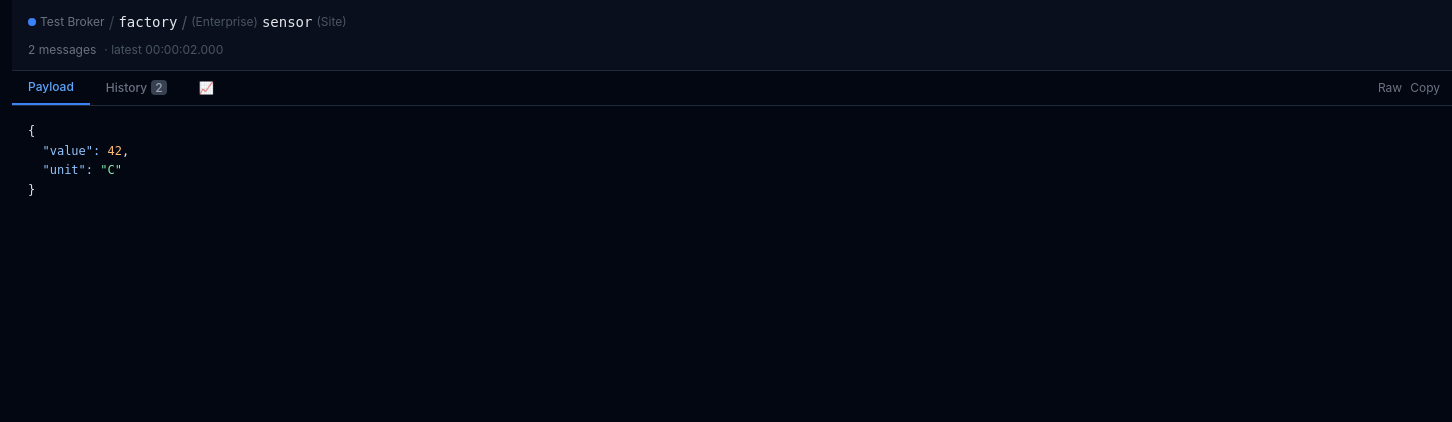
Test: PayloadInspector — topic selected › switches to sparkline tab
The width and height of the screenshot is (1452, 422).
Click the button "📈".
click(206, 88)  # box x1=183 y1=71 x2=230 y2=105
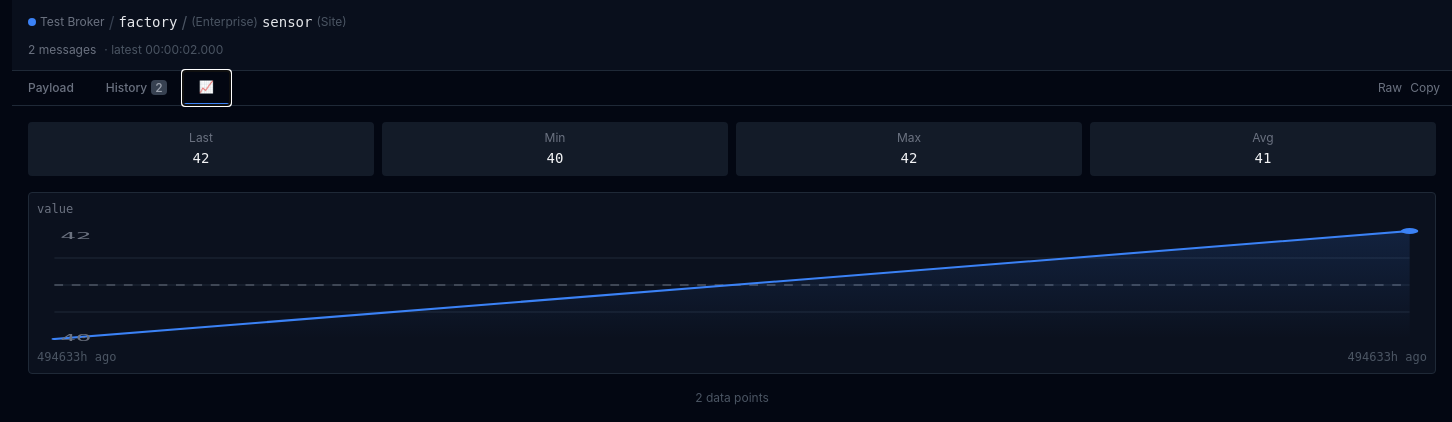
Now the text "Last" is shown, box x1=189 y1=130 x2=213 y2=145
Now the text "Min" is shown, box x1=545 y1=130 x2=565 y2=145
